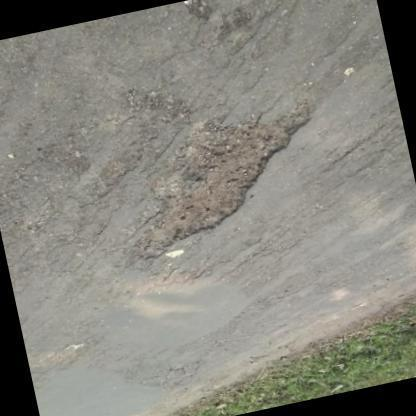pothole: (140, 109, 320, 265), (26, 341, 98, 377)
